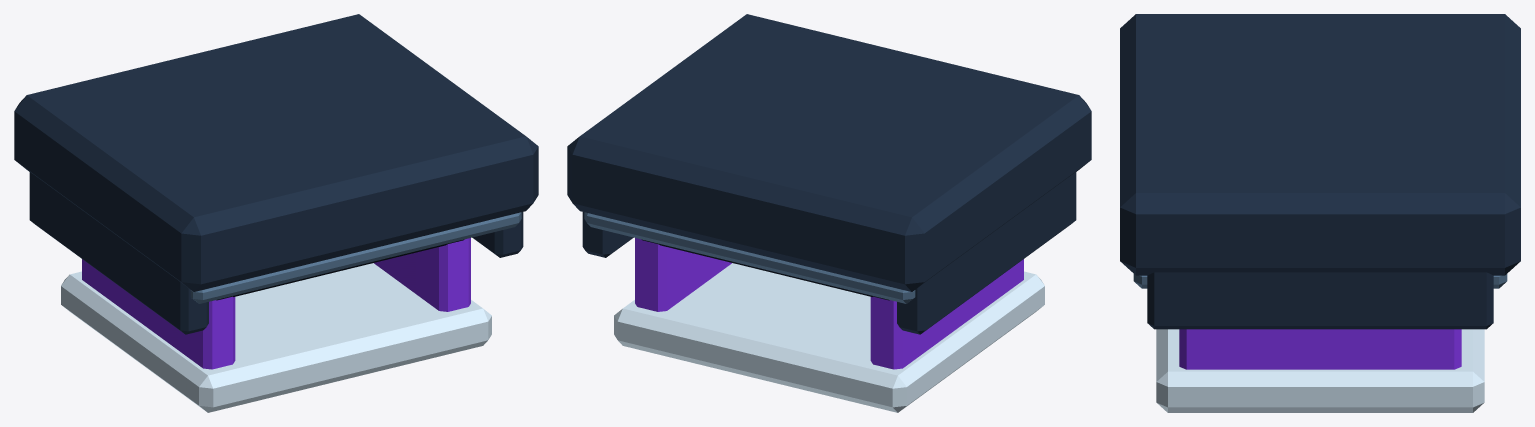
Rendered from prism_spring_pad_launch.obj.
The picture shows the model from 3 angles, left to right: view 1: azimuth 30°, elevation 25°; view 2: azimuth 150°, elevation 25°; view 3: azimuth 270°, elevation 25°; orthographic projection. The views are drawn at different scales.
Parts seen in each view (by area): view 1: PrismSpringPad_Launch; view 2: PrismSpringPad_Launch; view 3: PrismSpringPad_Launch.
Boxes of the visible parts, left/top/right/bottom form: PrismSpringPad_Launch: left=14, top=14, right=538, bottom=412; PrismSpringPad_Launch: left=567, top=14, right=1091, bottom=412; PrismSpringPad_Launch: left=1120, top=14, right=1520, bottom=412.
Bounding box in the file's own units: 1 × 0.5895 × 0.88.
1 material, 1 textured.
